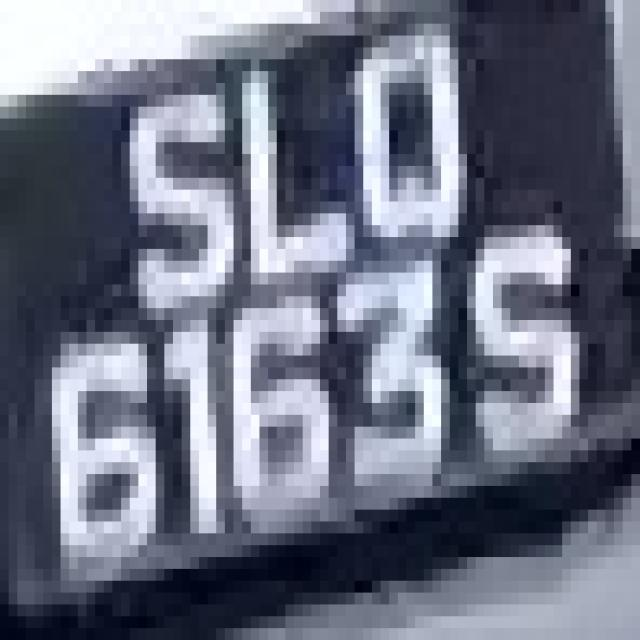1: (164, 308, 242, 581)
3: (320, 237, 450, 533)
6: (26, 320, 173, 628), (216, 249, 338, 533)
L: (216, 48, 338, 284)
Q: (311, 0, 484, 284)
S: (458, 190, 606, 498), (95, 71, 251, 296)
